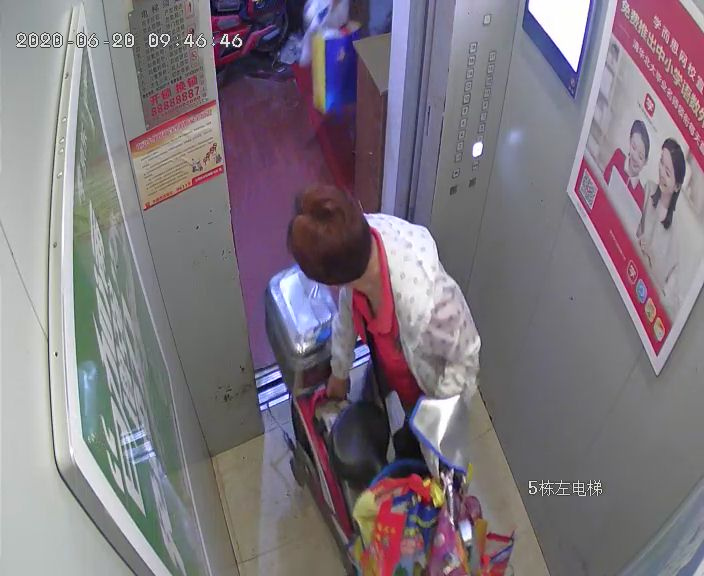Electric-bicycle: (262, 263, 492, 573)
